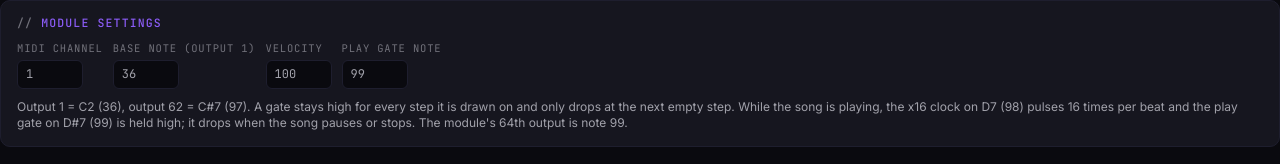
it: SettingsPanel › edits and clamps module settings
Step 1. Replace the text in the number field with test id "midi-channel" with "10" → (50, 74), box [17,60,83,89]
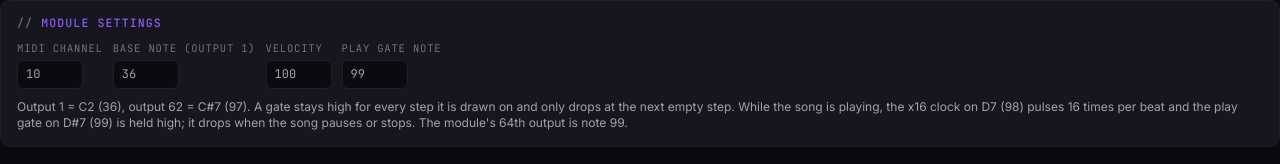
Step 2. Replace the text in the number field with test id "base-note" with "48" → (146, 74), box [113,60,179,89]
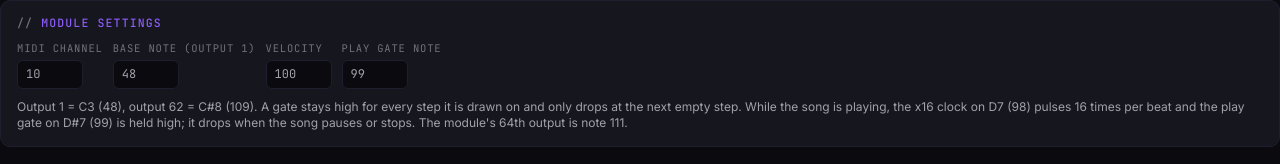
Step 3. Replace the text in the number field with test id "velocity" with "500" → (298, 74), box [266,60,332,89]
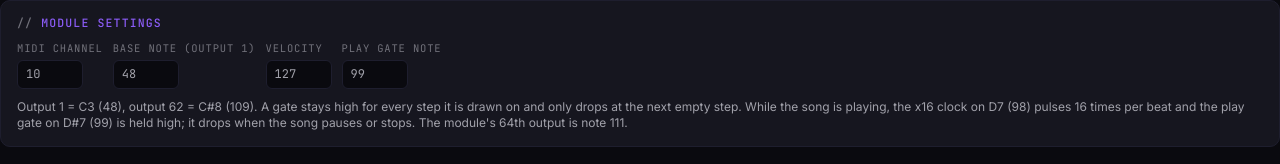
Expected: the text "x16 clock on D7 (98)" is shown, [17,99,1245,130]
Expected: the text "Output 1 = C3 (48)" is shown, [17,99,1245,130]
Expected: the text "output 62 = C#8 (109)" is shown, [17,99,1245,130]
Step 4. Replace the text in the number field with test id "play-gate-note" with "100" → (374, 74), box [342,60,408,89]
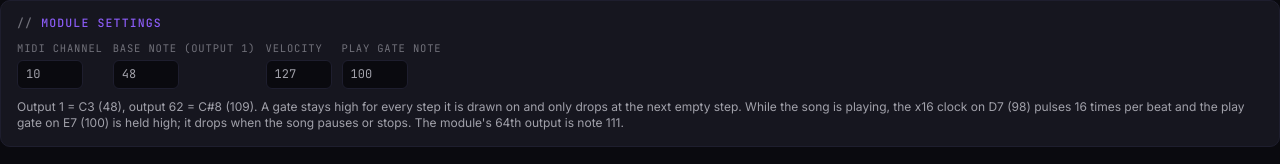
Expected: the text "module's 64th output is note 111" is shown, [17,99,1245,130]
Expected: the text "play gate on E7 (100)" is shown, [17,99,1245,130]
